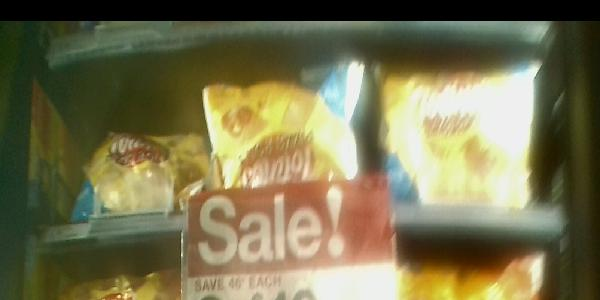icecream: (375, 55, 549, 214), (201, 62, 370, 212), (67, 119, 211, 218)
